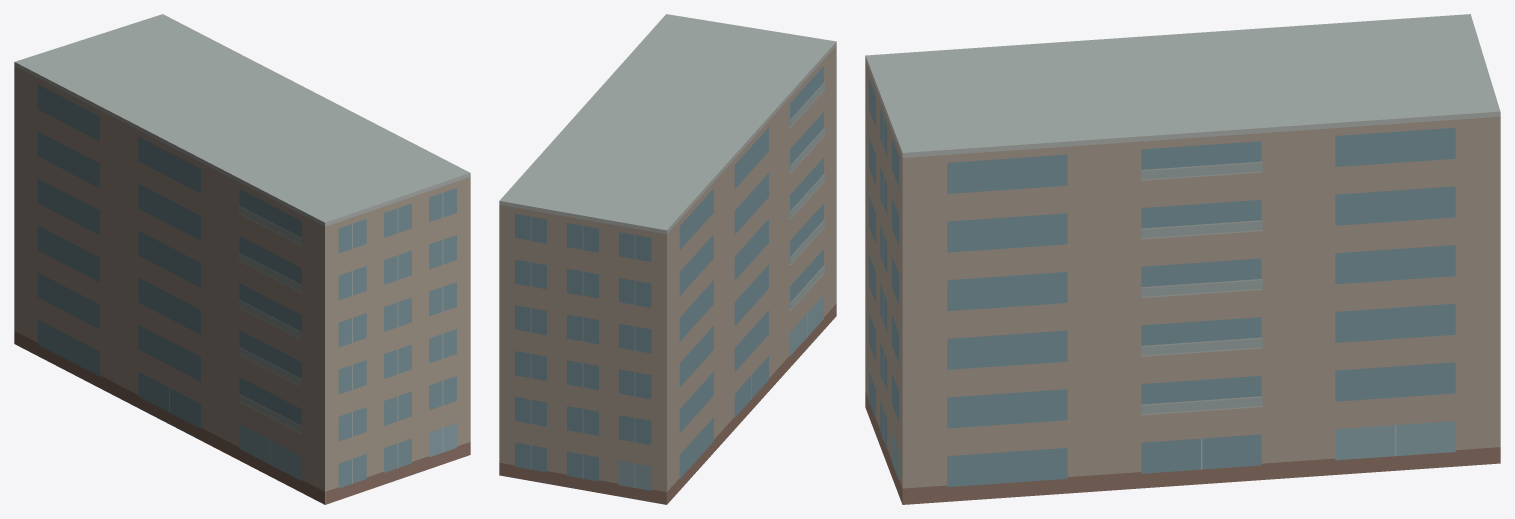
Rendered from survey-upis-32730229.glb.
3 renders of one model, left to right at view 1: azimuth 30°, elevation 25°; view 2: azimuth 150°, elevation 25°; view 3: azimuth 270°, elevation 25°, orthographic. The views are drawn at different scales.
Visible parts, largest first — view 1: survey-upis-32730229.tmp; view 2: survey-upis-32730229.tmp; view 3: survey-upis-32730229.tmp.
Boxes of the visible parts, <box> form: survey-upis-32730229.tmp: <box>14,14,470,504</box>; survey-upis-32730229.tmp: <box>499,14,836,504</box>; survey-upis-32730229.tmp: <box>865,14,1500,504</box>.
Size of the model in its own units: 14.45 by 17.05 by 27.9.
